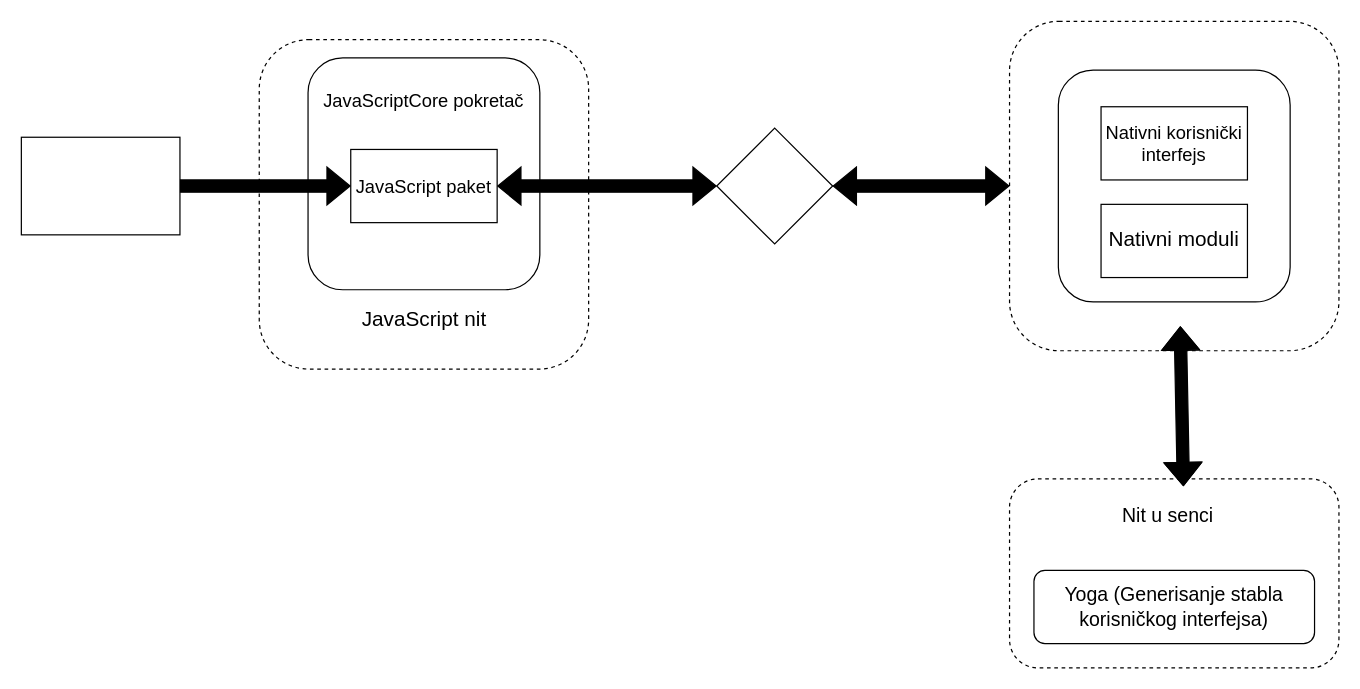
Some shapes in this 1360 by 689 pixel diagram are drawn without their labels. Here are the shapes that lost their labels. From the top down, the centre of each, then its label:
At [100,185]: "React kod".
At [774,185]: "Most".
